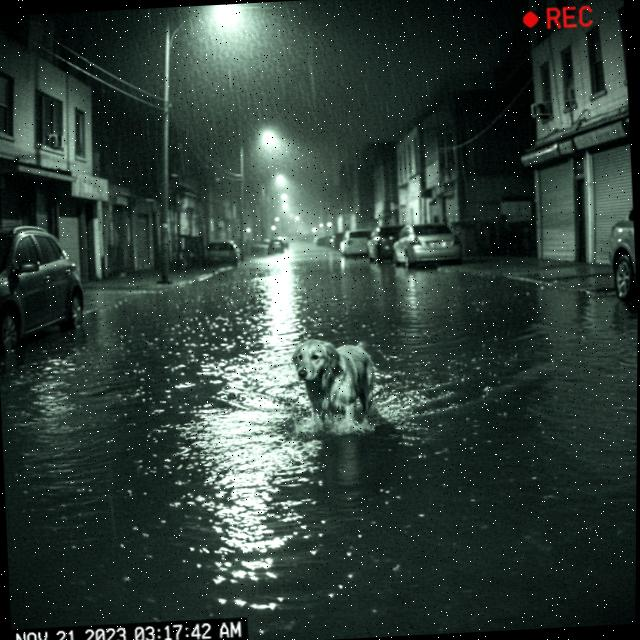dog: (279, 323, 394, 432)
